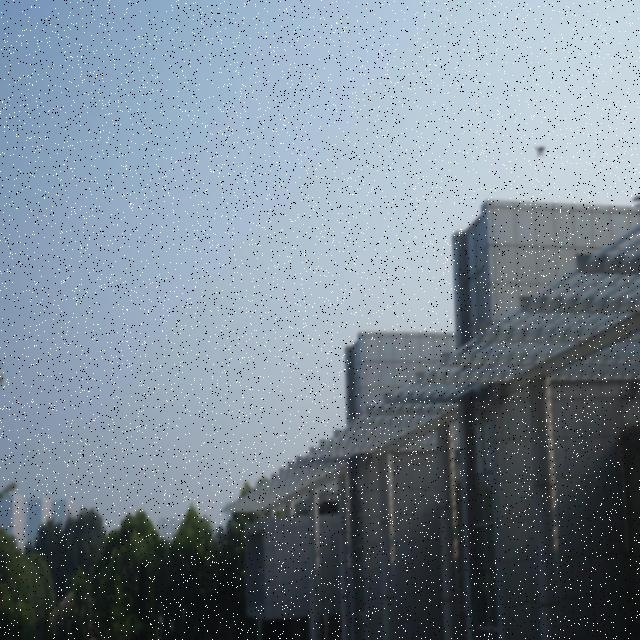UAV: (532, 145, 546, 158)
